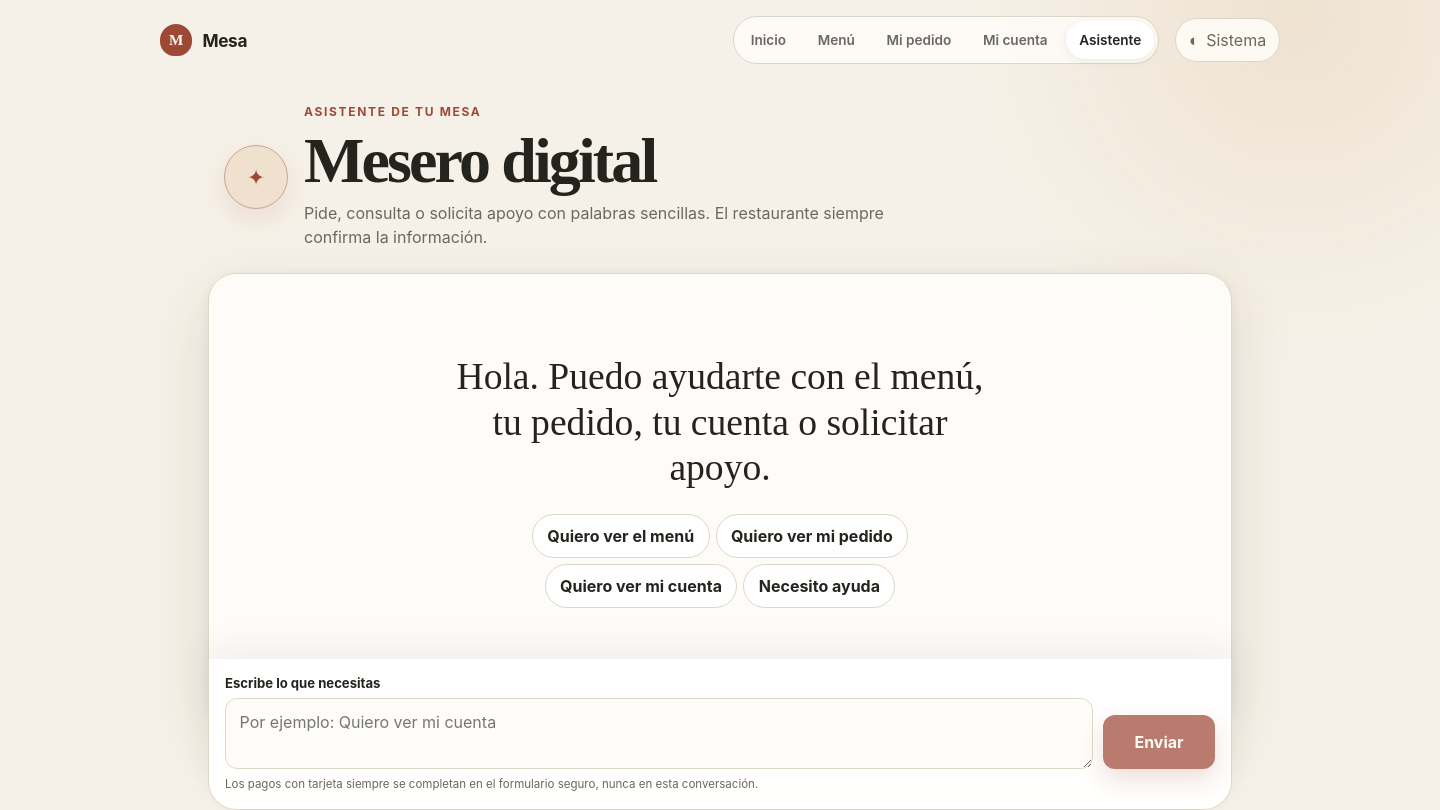
Test case: Digital Waiter UI › maps secure card entry and payment uncertainty only to existing deterministic routes
Expected: the heading "Mesero digital" is shown, 304,125 -> 655,196
In the text box labelled "Escribe lo que necesitas": (659, 733) 225,698 -> 1093,769, type "Voy a pagar con tarjeta"
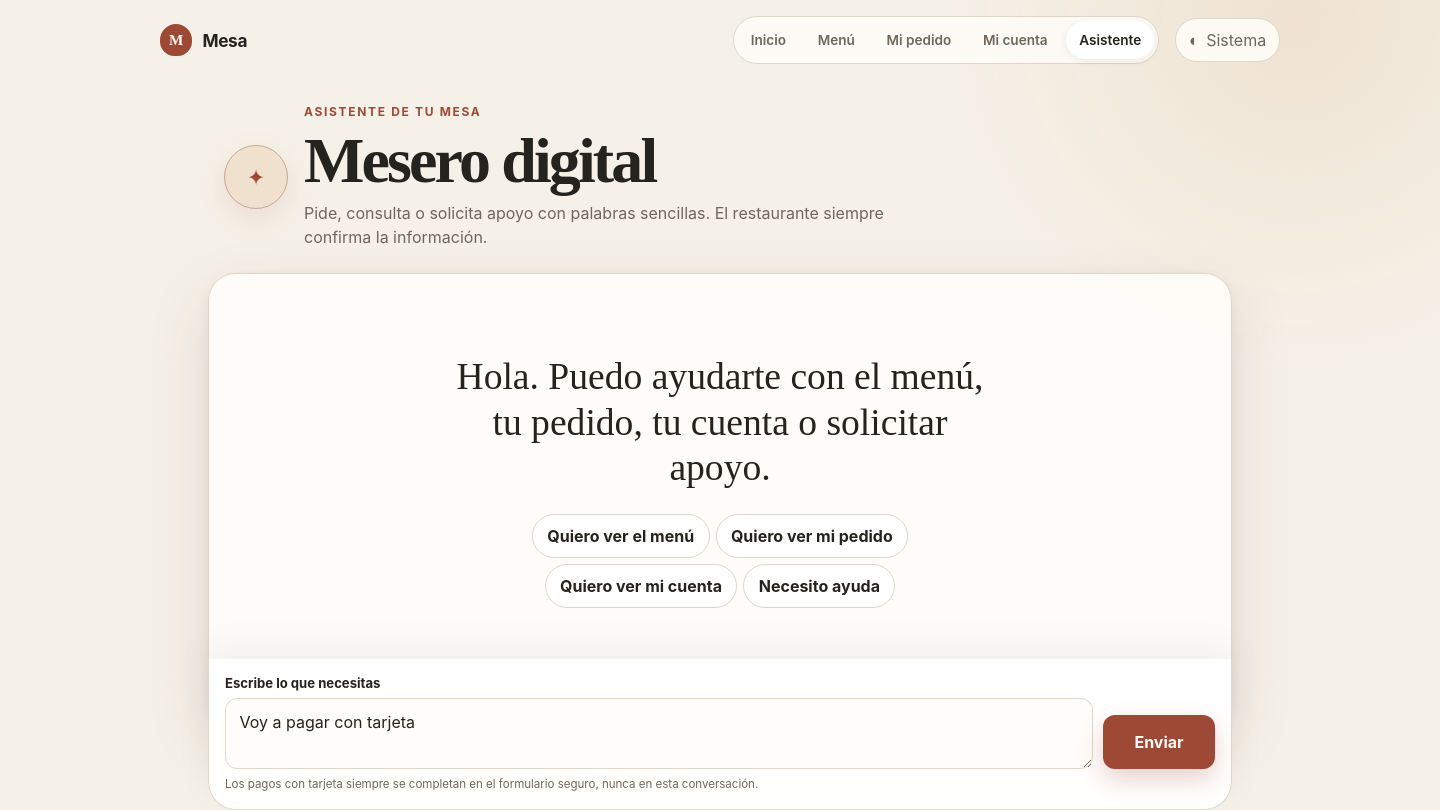
Click the button "Enviar": (1159, 742) 1103,715 -> 1215,769
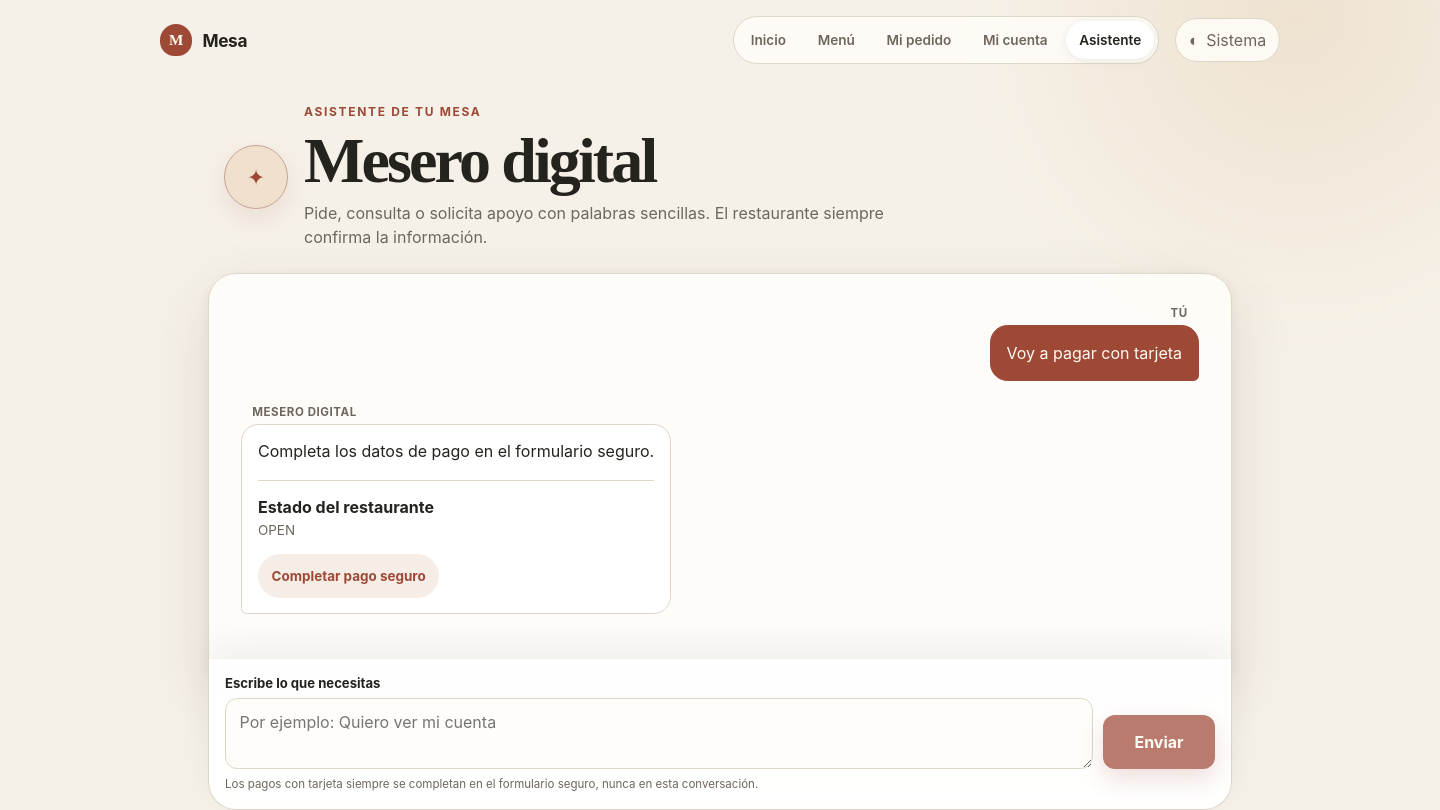
In the text box labelled "Escribe lo que necesitas": (659, 733) 225,698 -> 1093,769, type "¿Qué pasó con mi pago?"
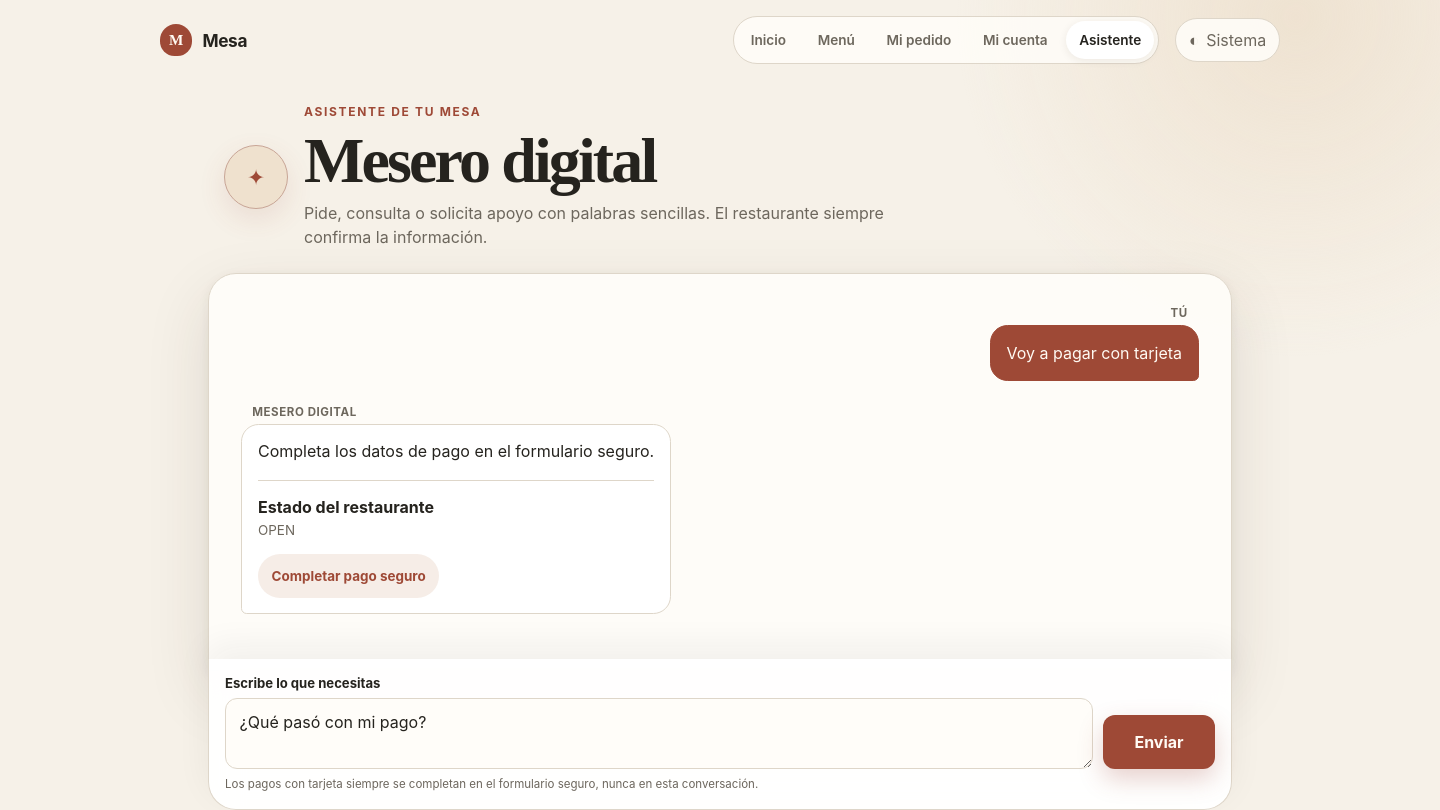
Click the button "Enviar": (1159, 742) 1103,715 -> 1215,769
(page scrolled)
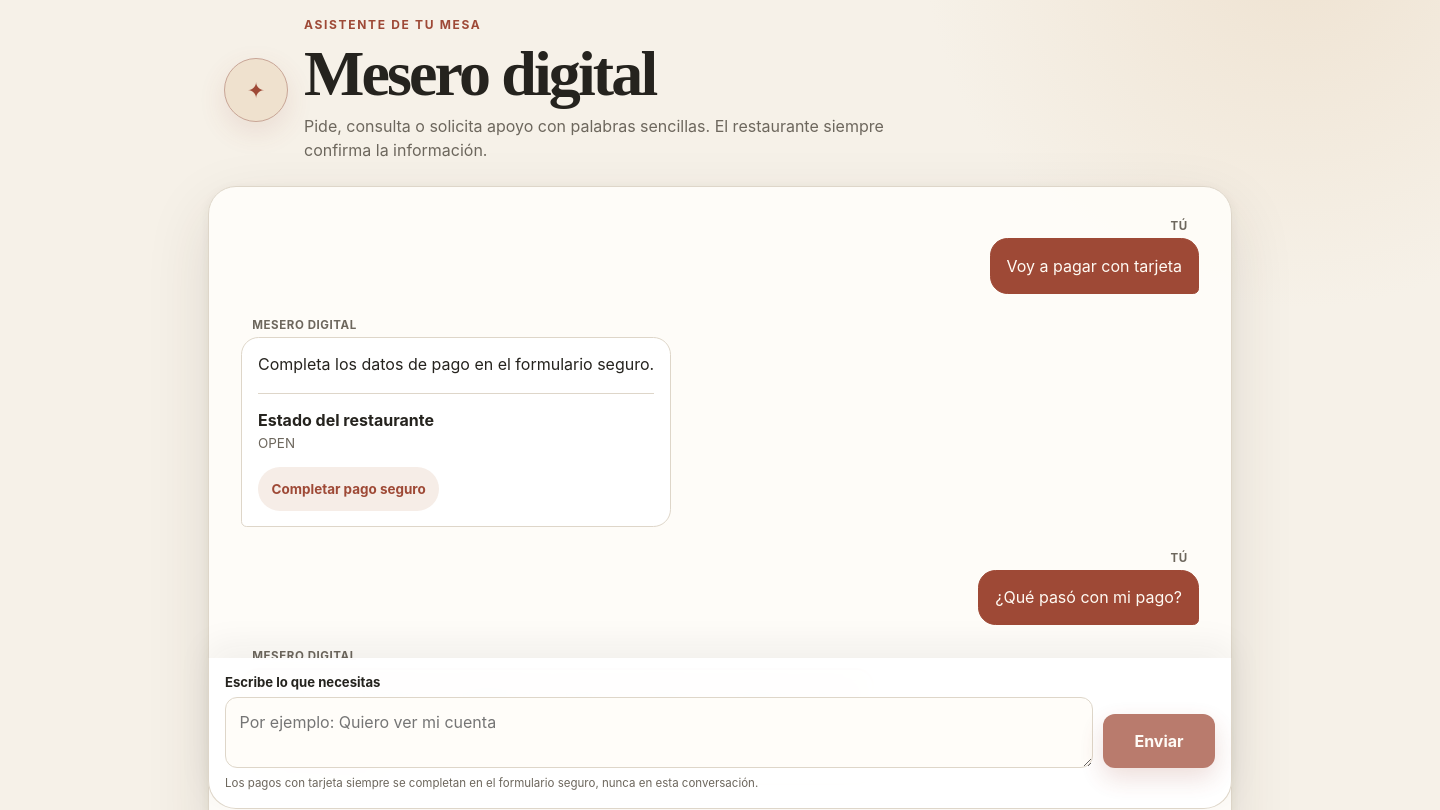
Expected: the message shows "No realices otro pago por ahora", 259,686 -> 856,706
